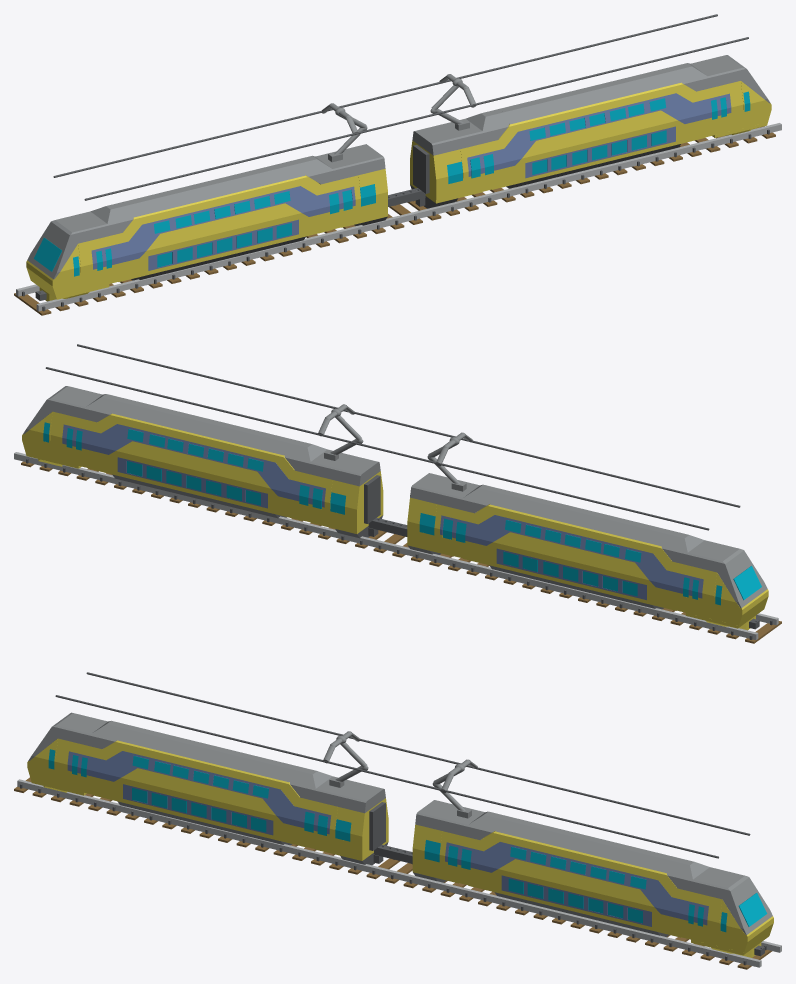
File: gltf train.glb
3 views of the same model, one above another, from view 1: azimuth 30°, elevation 25°; view 2: azimuth 150°, elevation 25°; view 3: azimuth 330°, elevation 25° (orthographic).
Visible parts, largest first — view 1: Mesh_Mesh_head_geo.001_lambert2SG.001; view 2: Mesh_Mesh_head_geo.001_lambert2SG.001; view 3: Mesh_Mesh_head_geo.001_lambert2SG.001.
Boxes of the visible parts, x1,y1,x2,y2 form: Mesh_Mesh_head_geo.001_lambert2SG.001: (14, 14, 781, 315); Mesh_Mesh_head_geo.001_lambert2SG.001: (14, 344, 781, 643); Mesh_Mesh_head_geo.001_lambert2SG.001: (14, 672, 781, 969).
Size of the model in its own units: 400 by 62 by 30.
